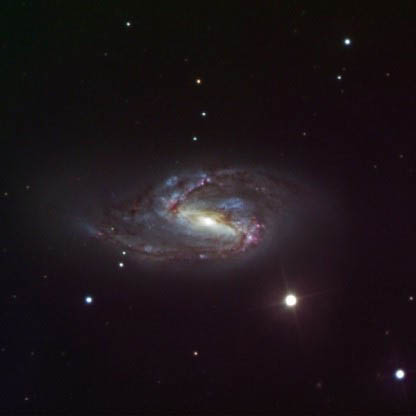Messier 66: (73, 158, 322, 314)
